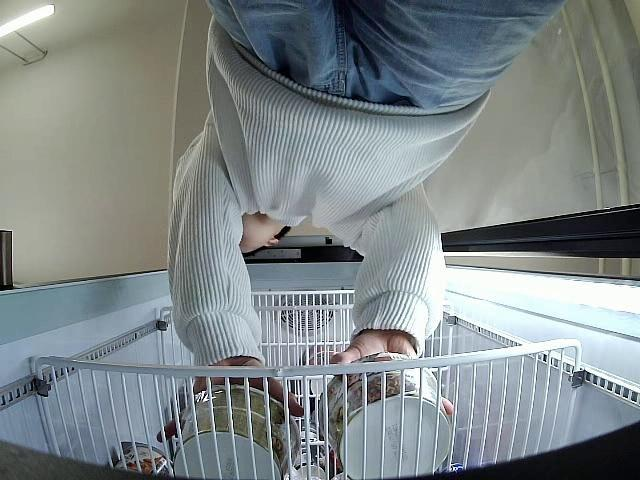03_chapagetti_L: (320, 354, 450, 480), (175, 387, 300, 480)
